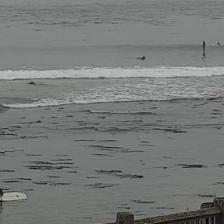surfer: (28, 80, 36, 85), (136, 56, 146, 60), (202, 41, 206, 47), (202, 52, 206, 57), (217, 42, 220, 45)
